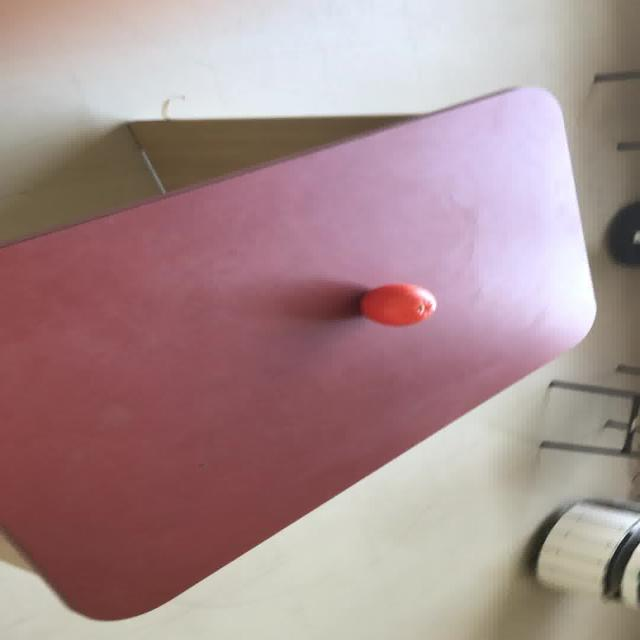orange: (358, 283, 436, 326)
